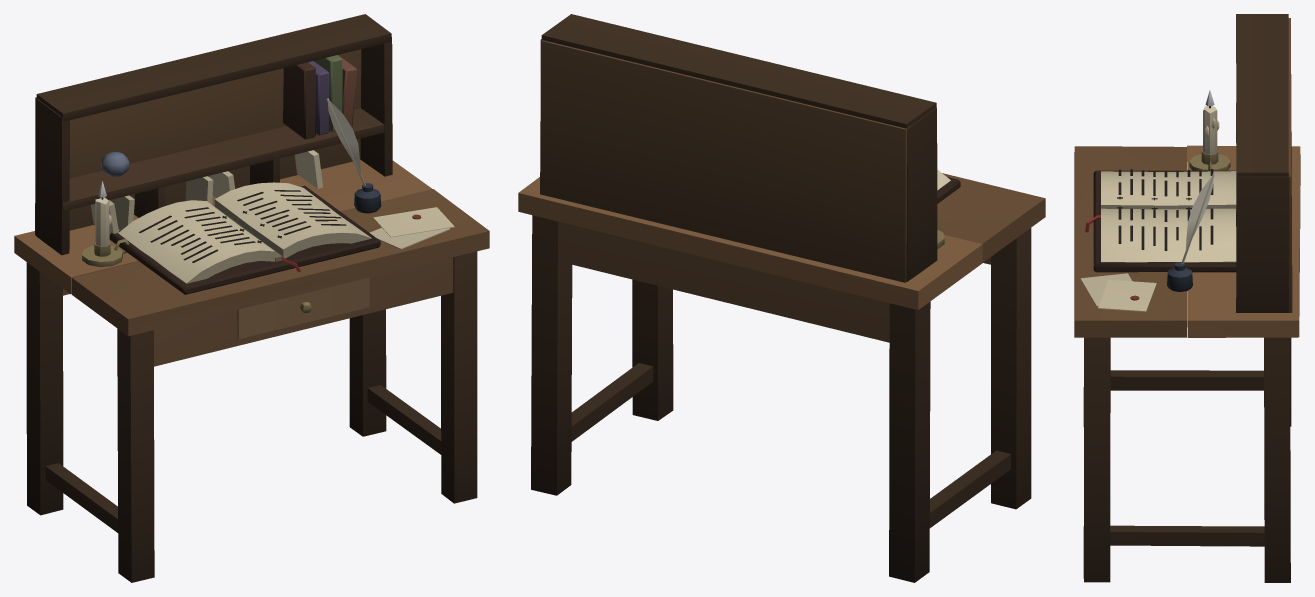
Rendered from ph_int_desk.glb.
The picture shows the model from 3 angles, left to right: view 1: azimuth 30°, elevation 25°; view 2: azimuth 150°, elevation 25°; view 3: azimuth 270°, elevation 25°; orthographic projection. The views are drawn at different scales.
Visible parts, largest first — view 1: ph_int_desk; view 2: ph_int_desk; view 3: ph_int_desk.
Boxes of the visible parts, x1=… form: ph_int_desk: x1=14, y1=14, x2=489, y2=582; ph_int_desk: x1=518, y1=14, x2=1045, y2=582; ph_int_desk: x1=1074, y1=14, x2=1300, y2=582.
Size of the model in its own units: 1.1 by 1.19 by 0.6025.
